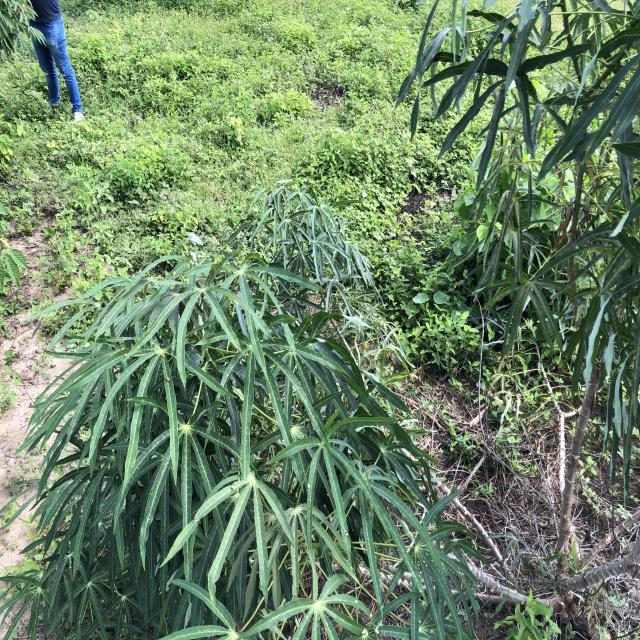Maleza: (102, 0, 378, 121), (0, 124, 199, 243), (138, 95, 401, 183)
Mosca: (530, 311, 561, 332), (142, 448, 164, 469), (37, 485, 60, 505), (571, 241, 581, 252)
